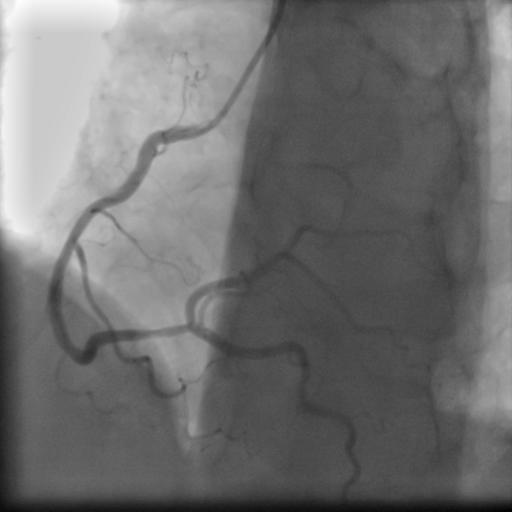Stenosis: (133, 324, 189, 344)
